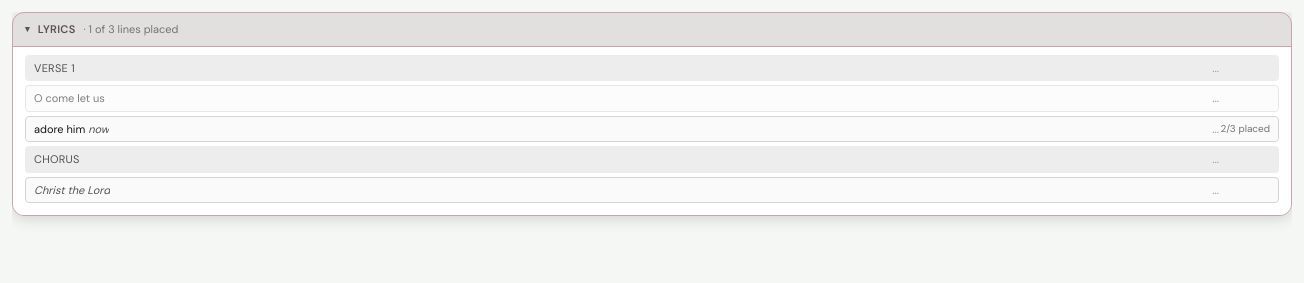
Test: LyricDrawer — header correction › EXPLAINS instead of offering when words are placed
The width and height of the screenshot is (1304, 283).
Click the 2nd button "…" at x=1216, y=98, box [1208, 92, 1223, 104]
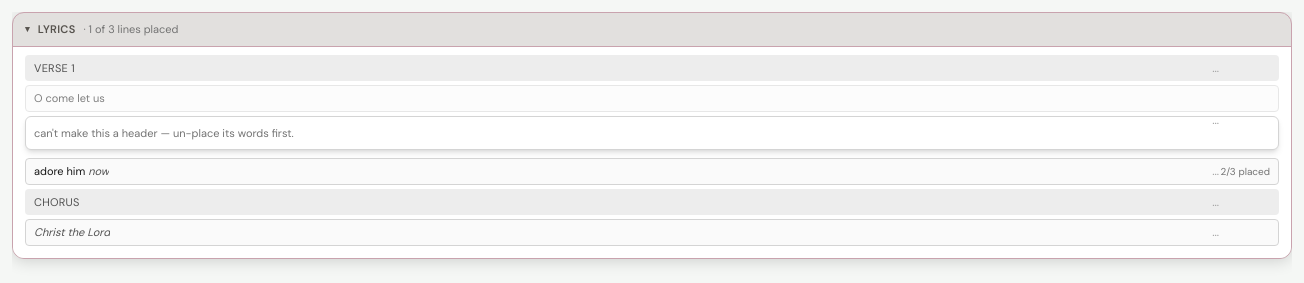
Expected: the text "un-place its words first" is shown, [34, 126, 294, 140]
